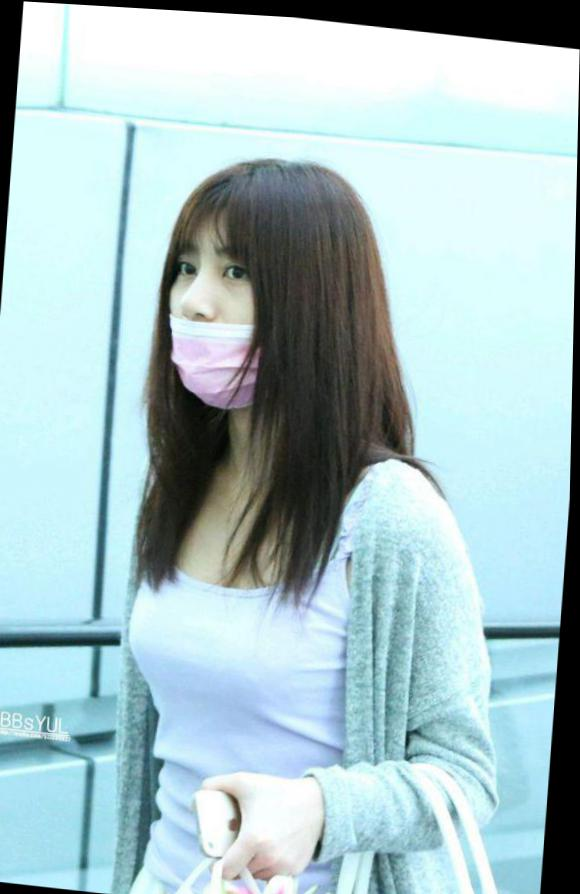WRONG: (153, 222, 321, 395)
